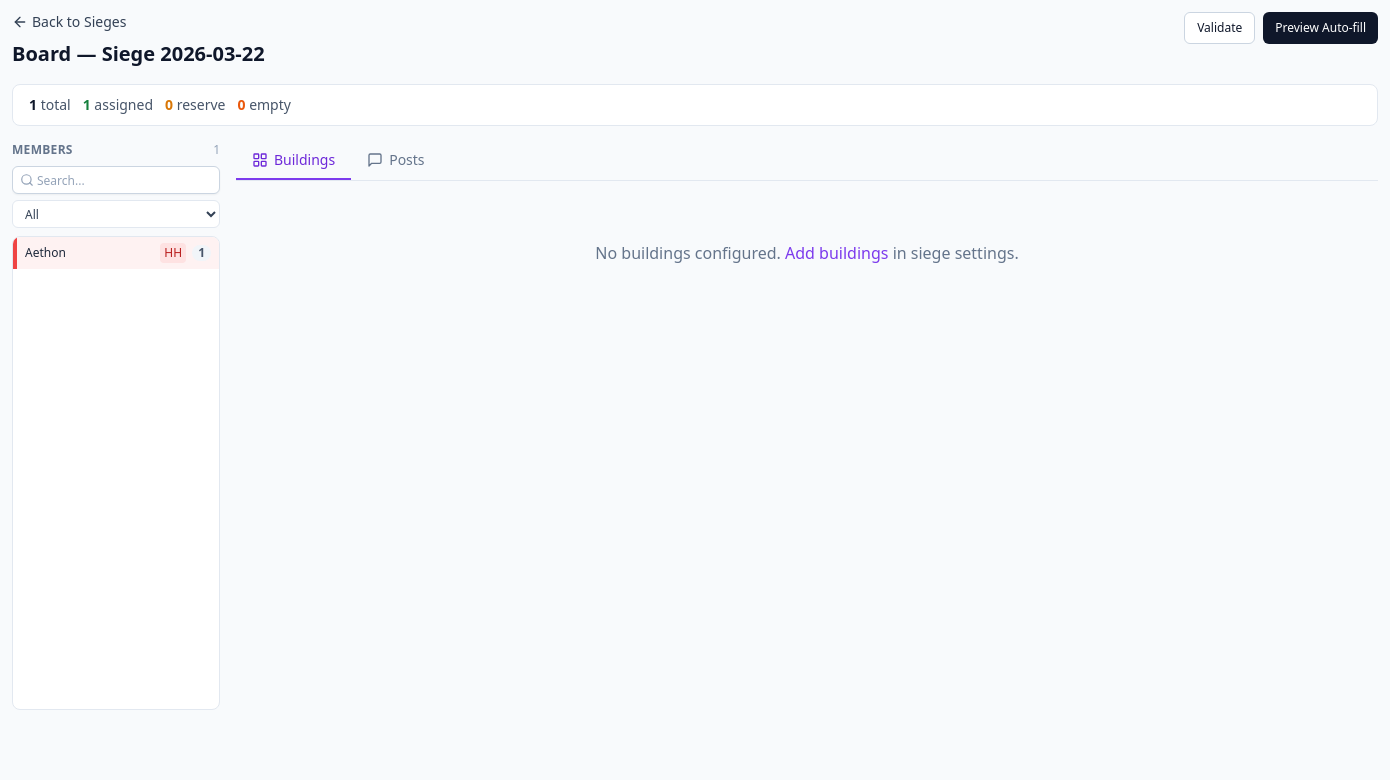
it: PostsTab — matched condition display › shows condition pill in collapsed row when matched_condition_id matches an active condition
The image size is (1390, 780).
Step 1. Click the button "Posts" → (396,161), box [351,142,441,180]
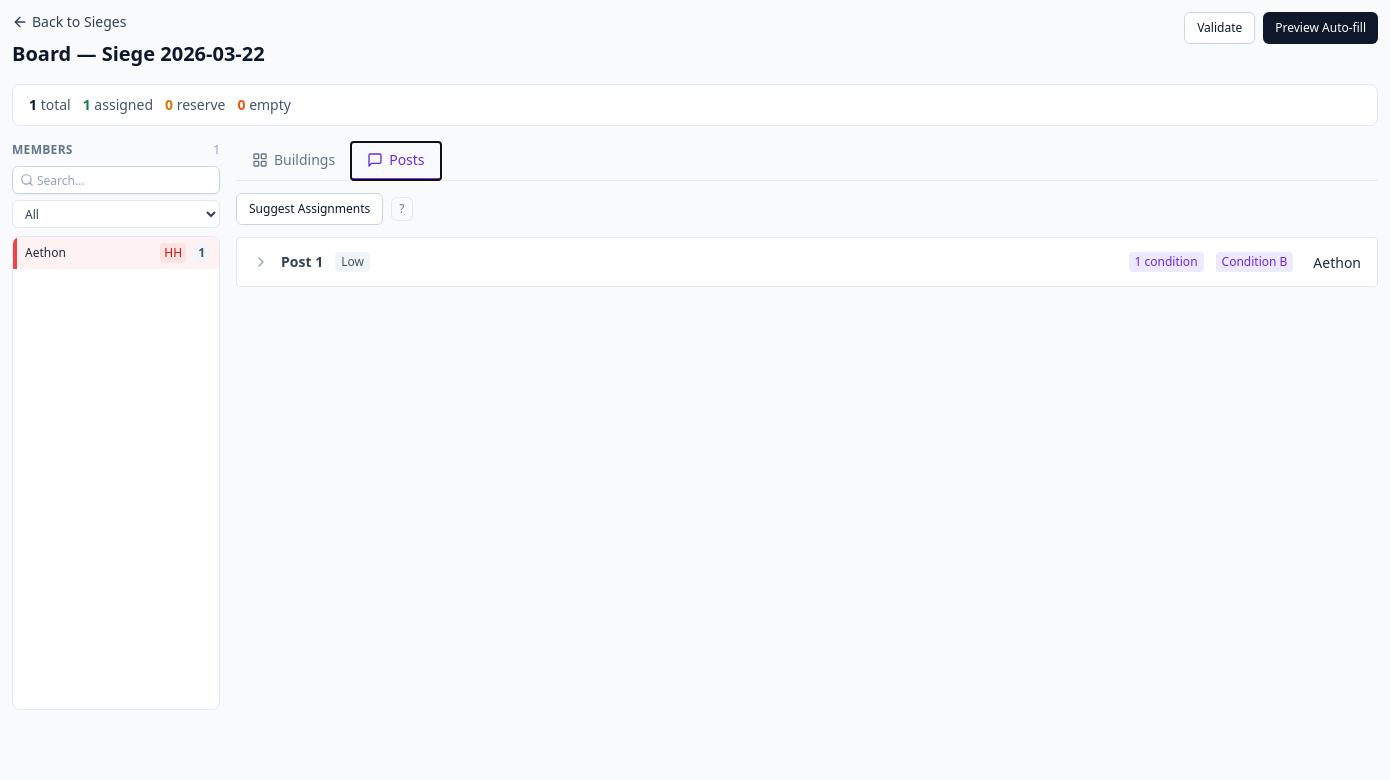
Expected: the text "Condition B" is shown, [1216,252,1293,272]
